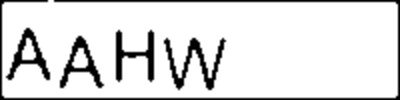A: (56, 32, 106, 92), (6, 25, 52, 82)
H: (111, 29, 158, 86)
W: (163, 34, 228, 92)
